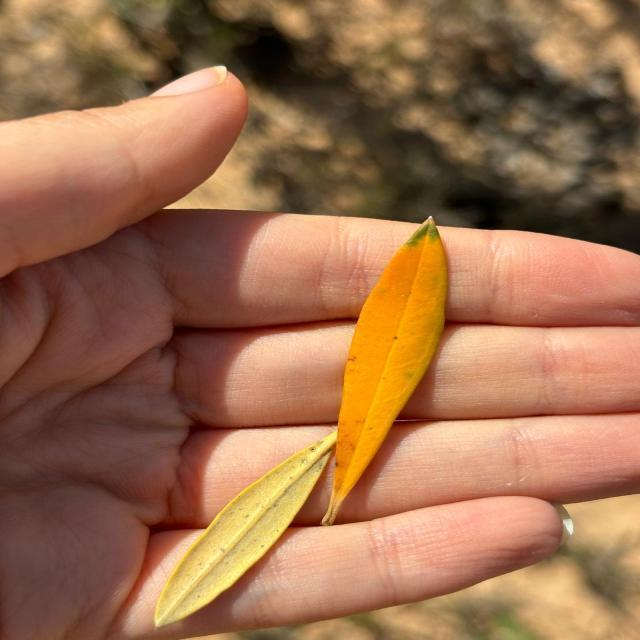OlivePeacockSpot: (321, 218, 448, 526), (154, 430, 336, 628)
